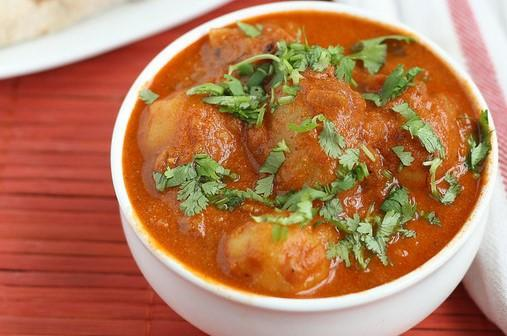DumAloo: (123, 9, 487, 299)
